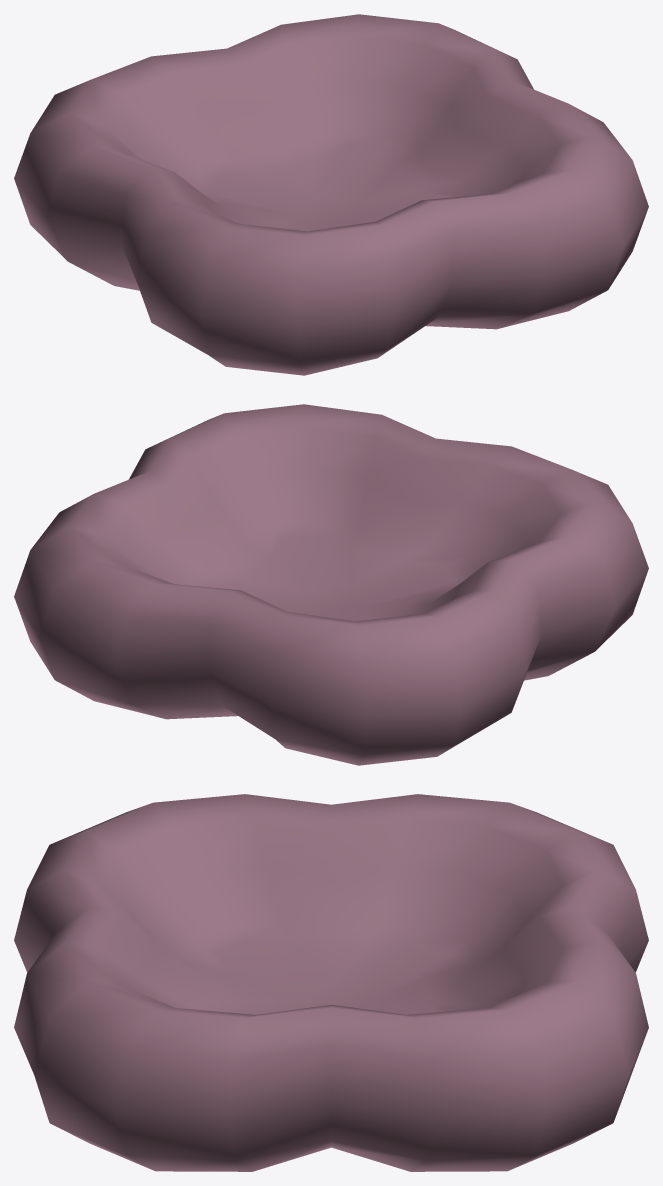
The model's file is catBed.fbx.
3 renders of one model, top to bottom at view 1: azimuth 30°, elevation 25°; view 2: azimuth 150°, elevation 25°; view 3: azimuth 270°, elevation 25°, orthographic. The views are drawn at different scales.
Visible parts, largest first — view 1: catBed; view 2: catBed; view 3: catBed.
Part boxes in pixels (<box>): catBed: <box>14,14,648,375</box>; catBed: <box>14,404,648,765</box>; catBed: <box>14,794,648,1171</box>.
Size of the model in its own units: 82.63 by 23.37 by 82.63.
